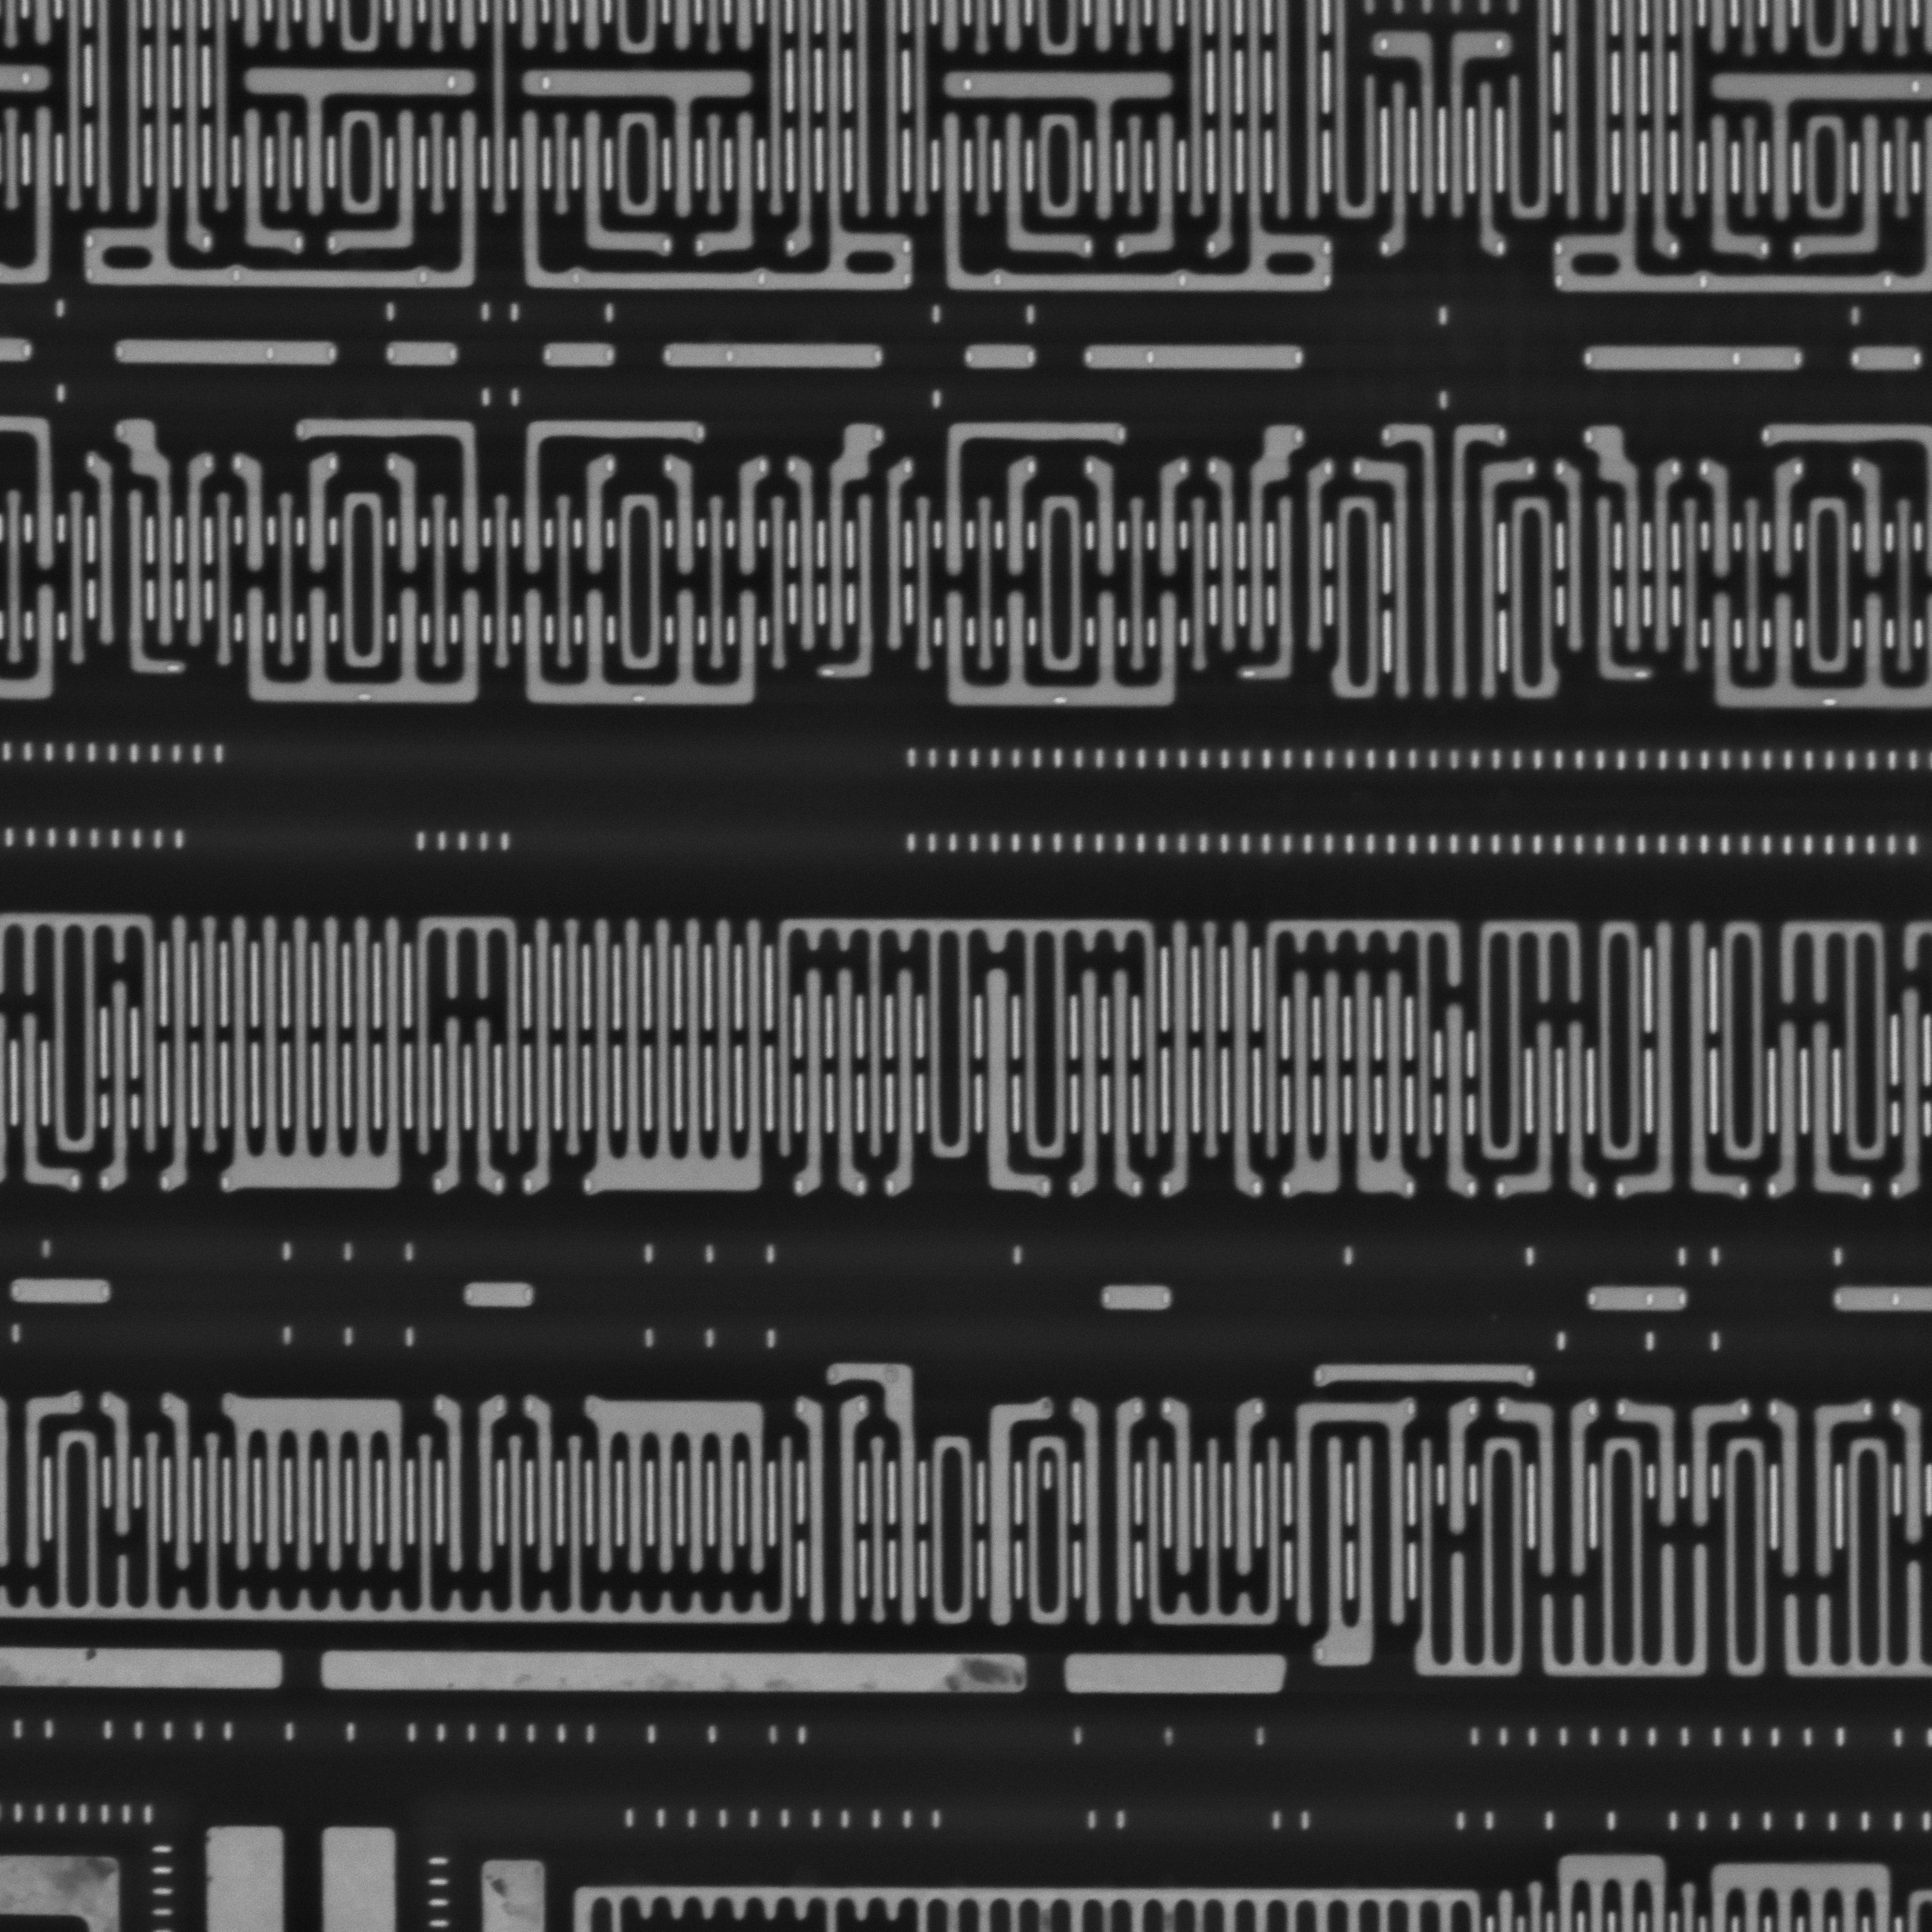circularDummy: (318, 1651, 1030, 1697), (1062, 1651, 1293, 1693)
publicGate: (1281, 1399, 1419, 1667), (794, 1396, 878, 1622)
resistor: (1081, 343, 1307, 372)
singleGate: (1583, 426, 1656, 658), (115, 418, 186, 648), (1638, 444, 1686, 672), (786, 456, 828, 655), (175, 444, 214, 655), (1210, 456, 1249, 655), (382, 449, 433, 580), (573, 442, 619, 584), (1759, 458, 1812, 580), (232, 448, 280, 582), (295, 442, 341, 577), (1845, 460, 1895, 584), (663, 455, 709, 584), (993, 451, 1039, 579), (1700, 453, 1744, 584), (1148, 455, 1192, 575), (727, 458, 771, 577), (1083, 458, 1127, 575)
